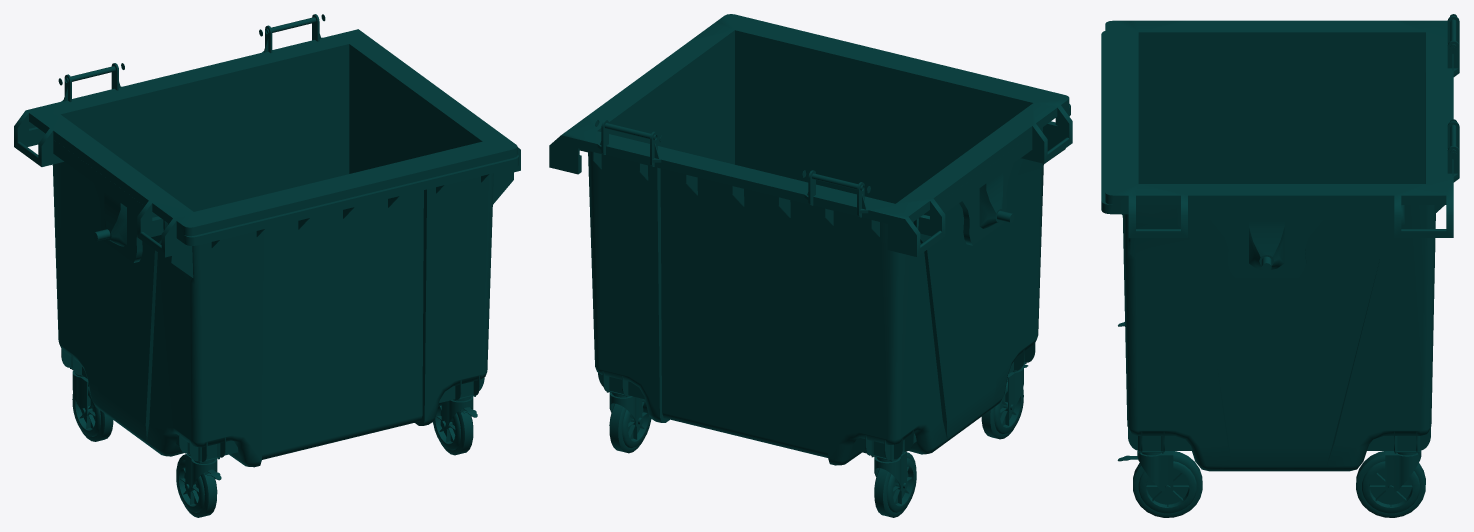
File: SM_TrashCanBase.fbx
The picture shows the model from 3 angles, left to right: view 1: azimuth 30°, elevation 25°; view 2: azimuth 150°, elevation 25°; view 3: azimuth 270°, elevation 25°; orthographic projection. The views are drawn at different scales.
Visible parts, largest first — view 1: TrashCanBase; view 2: TrashCanBase; view 3: TrashCanBase.
Part boxes in pixels (bbox=[...]): TrashCanBase: bbox=[14, 14, 520, 517]; TrashCanBase: bbox=[549, 14, 1072, 517]; TrashCanBase: bbox=[1101, 14, 1459, 517].
Size of the model in its own units: 135 by 120 by 106.
